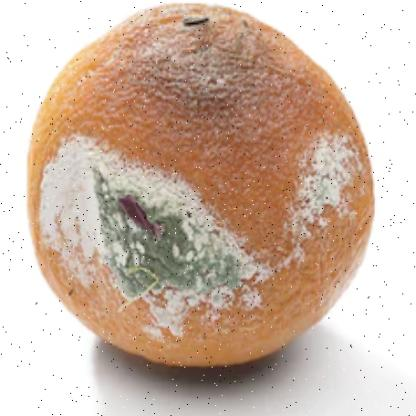rotten: (27, 3, 376, 371)
